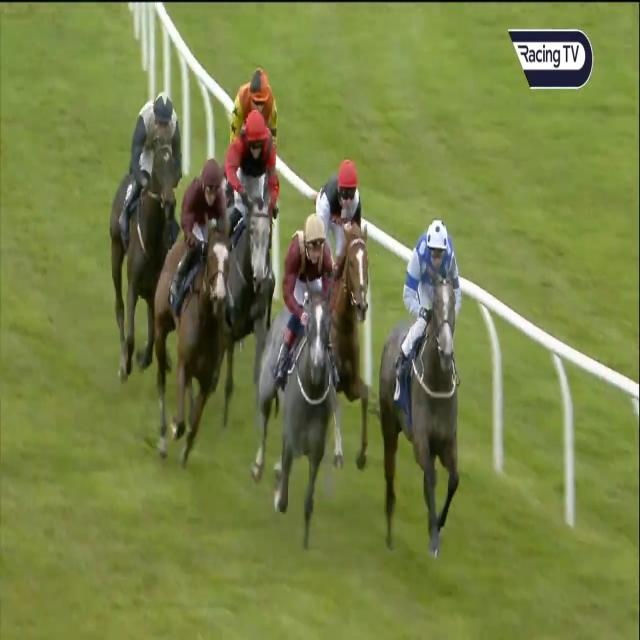horses-racing: (383, 217, 468, 555), (258, 216, 334, 544), (315, 163, 388, 479), (154, 168, 231, 467), (110, 91, 182, 382), (221, 118, 280, 339), (221, 60, 295, 157)
